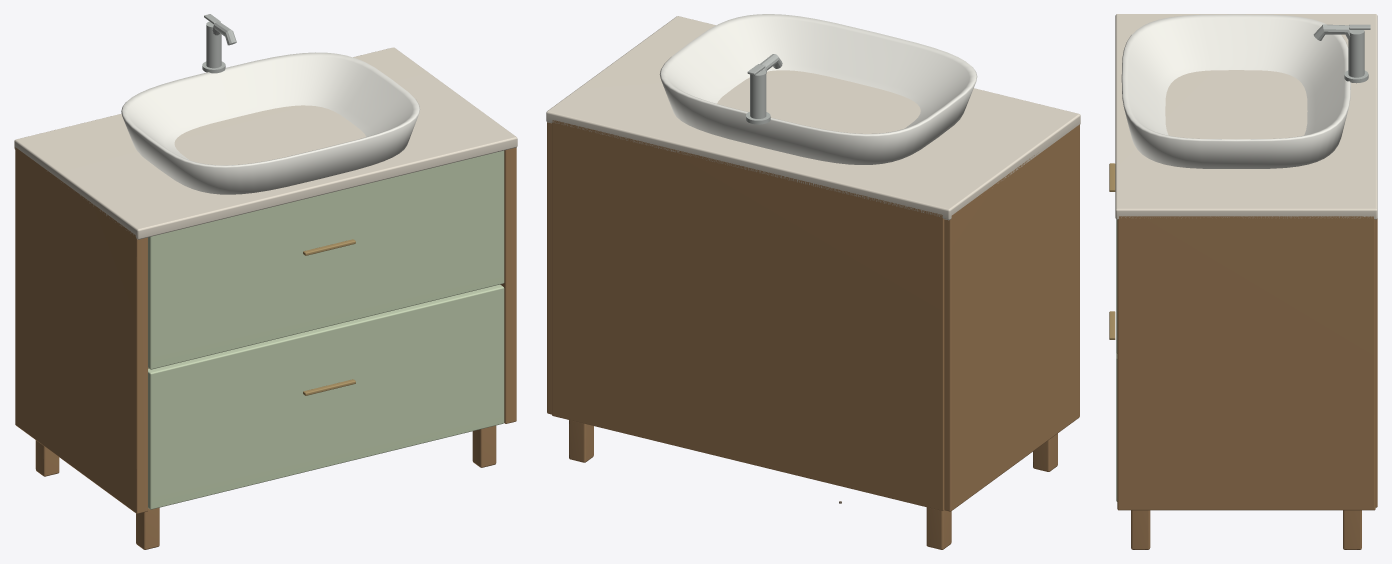
The model's file is single-bath-vanity.glb.
3 renders of one model, left to right at view 1: azimuth 30°, elevation 25°; view 2: azimuth 150°, elevation 25°; view 3: azimuth 270°, elevation 25°, orthographic. The views are drawn at different scales.
Visible parts, largest first — view 1: catalog_surface_RealismUV, catalog_surface_UVMap; view 2: catalog_surface_RealismUV, catalog_surface_UVMap; view 3: catalog_surface_RealismUV, catalog_surface_UVMap.
Boxes of the visible parts, bbox=[...] form: catalog_surface_RealismUV: bbox=[15, 14, 516, 549]; catalog_surface_UVMap: bbox=[14, 47, 517, 239]; catalog_surface_RealismUV: bbox=[547, 14, 1079, 549]; catalog_surface_UVMap: bbox=[546, 16, 1080, 220]; catalog_surface_RealismUV: bbox=[1109, 14, 1377, 549]; catalog_surface_UVMap: bbox=[1115, 14, 1377, 219].
Size of the model in its own units: 0.9 by 0.93 by 0.52.
